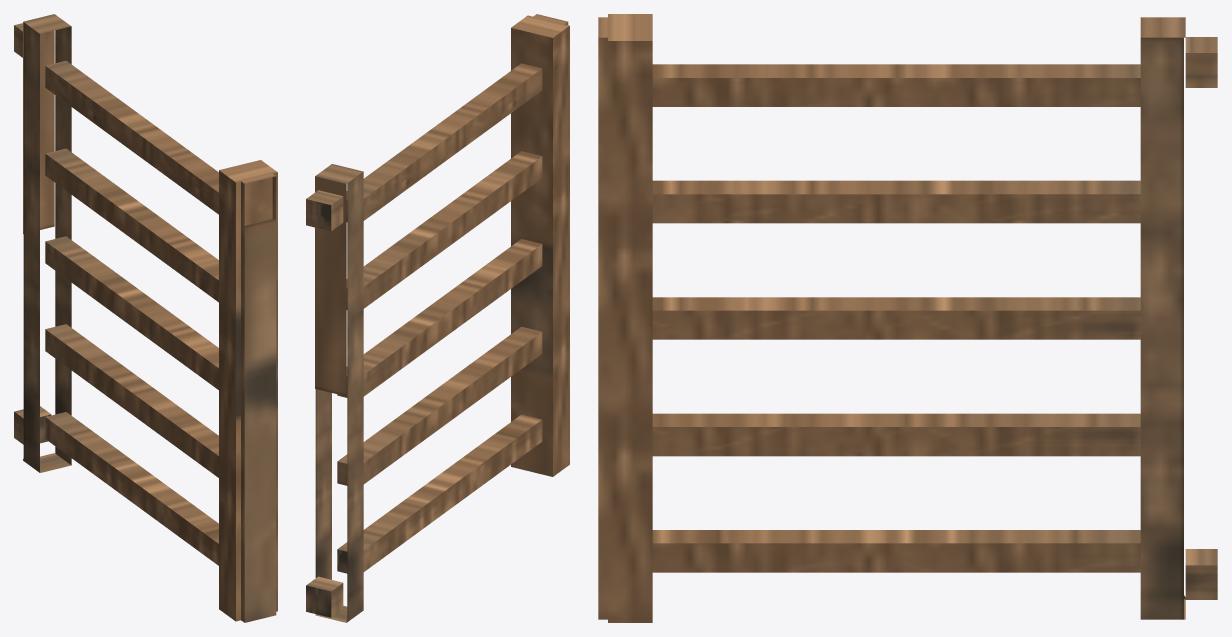
File: mirror.obj
3 renders of one model, left to right at view 1: azimuth 30°, elevation 25°; view 2: azimuth 150°, elevation 25°; view 3: azimuth 270°, elevation 25°, orthographic. The views are drawn at different scales.
Bounding box in the file's own units: 0.1 × 1 × 0.965.
